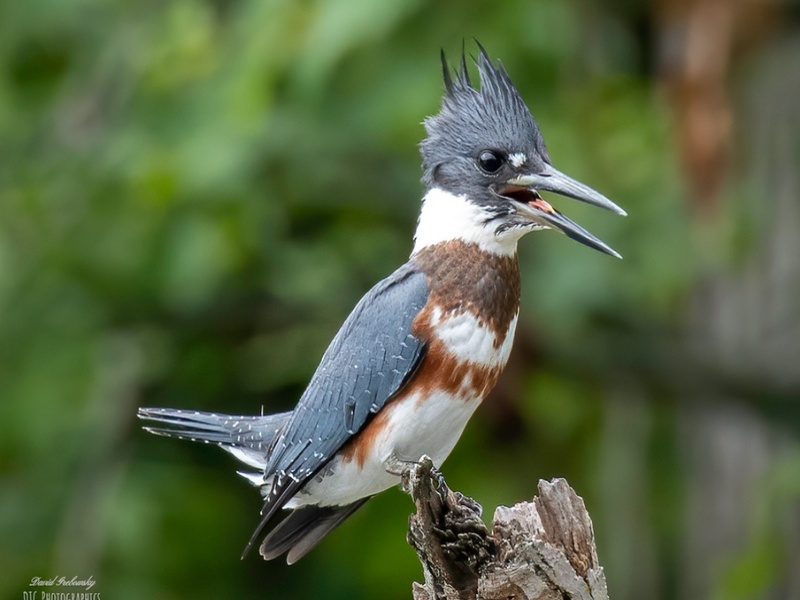kingfisher: (131, 34, 629, 575)
